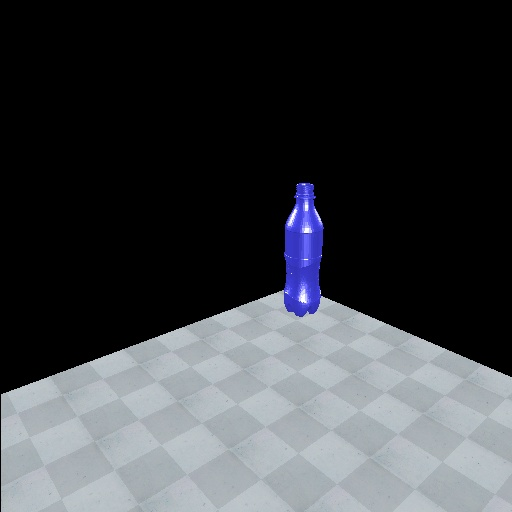bottle: (276, 179, 328, 318)
